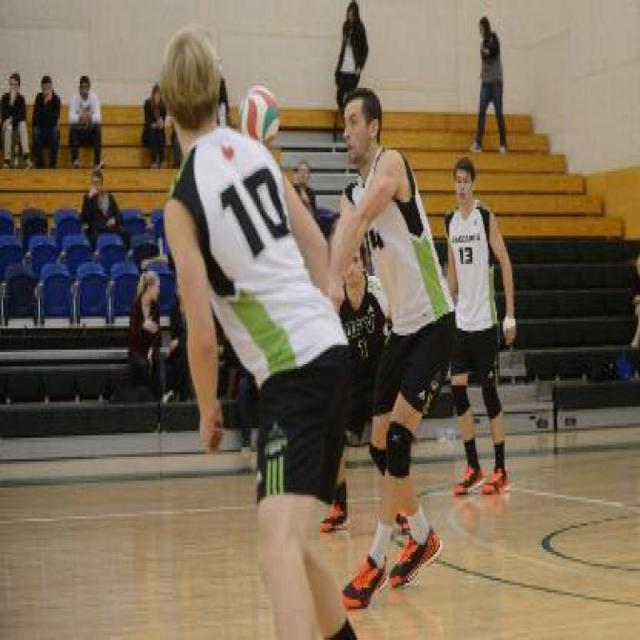volleyball: (235, 81, 282, 141)
